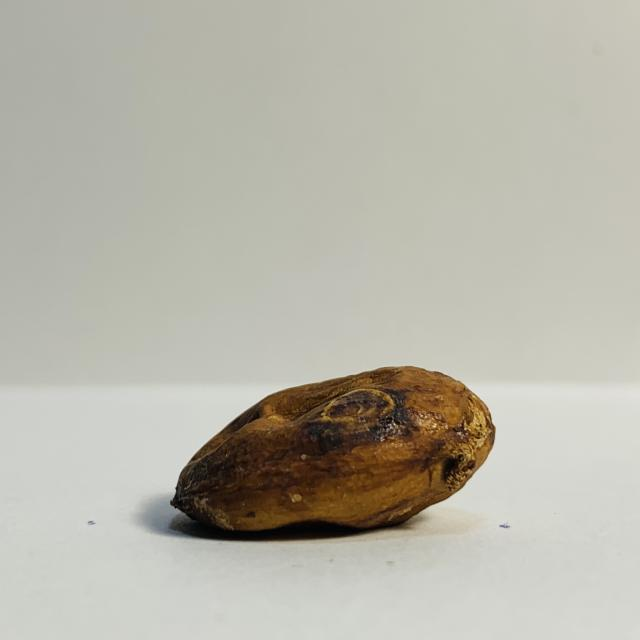Fine_cocoabeans: (75, 354, 576, 570)
